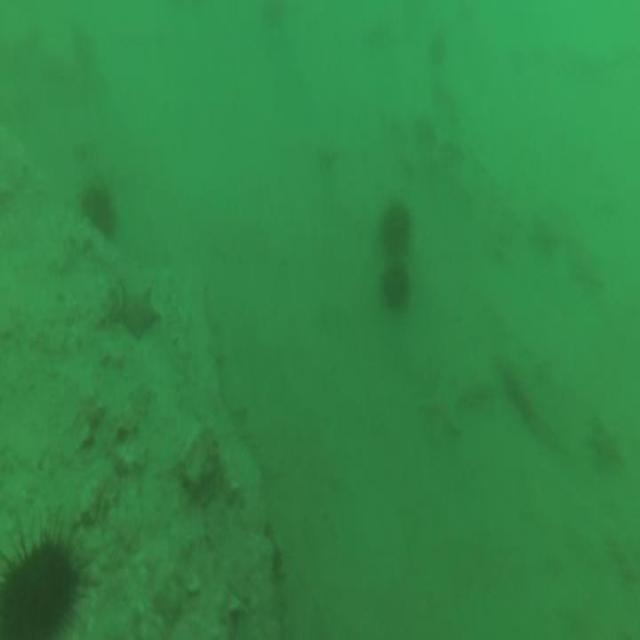echinus: (0, 513, 104, 640), (373, 251, 419, 319), (76, 178, 120, 242), (371, 198, 416, 256)
starfish: (115, 281, 163, 346)
